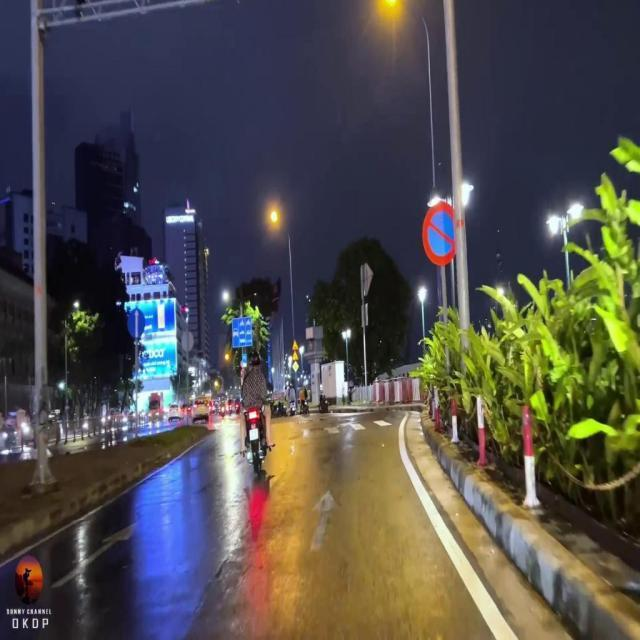131a-cam-do-xe: (422, 201, 462, 267)
407a-duong-mot-chieu: (127, 308, 145, 339)
